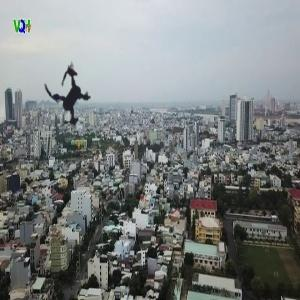drone: (14, 41, 130, 157)
